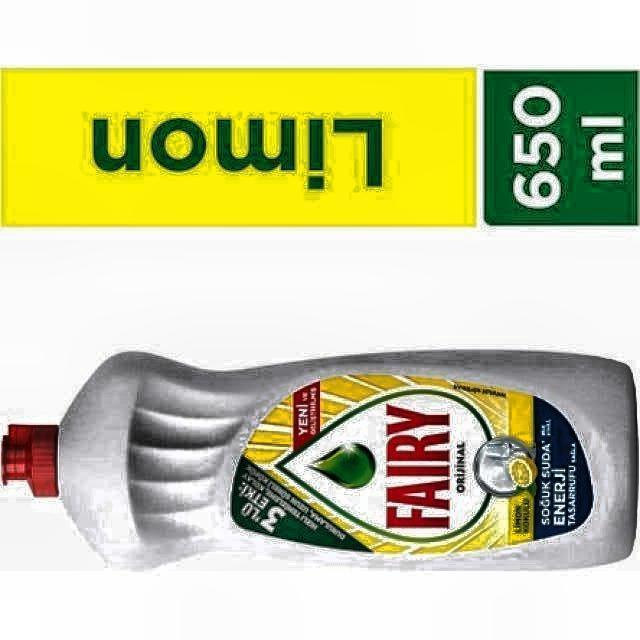plastic: (2, 351, 638, 568)
